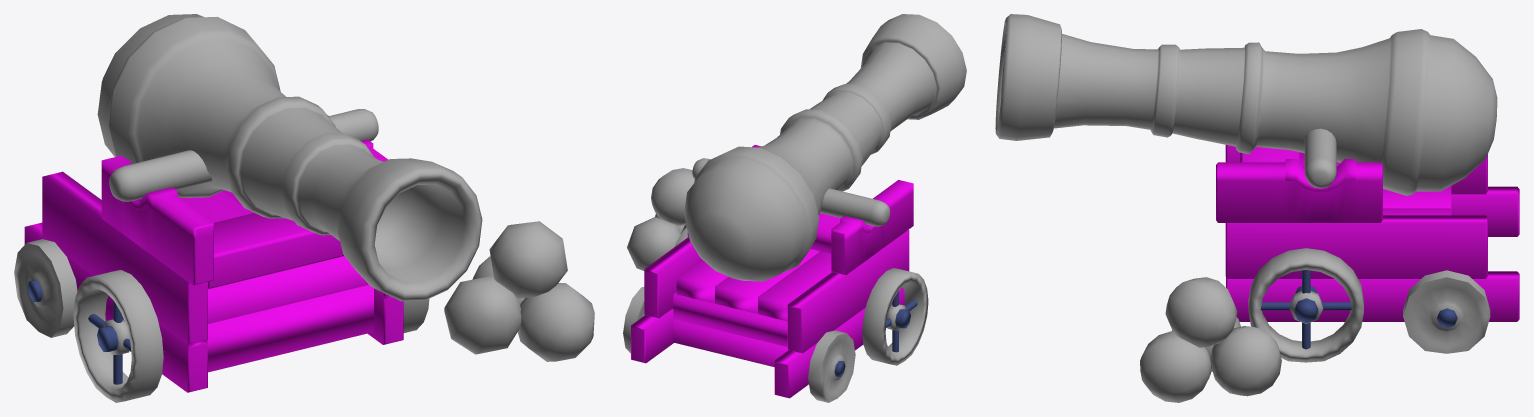
File: Full_Cannon_LP.fbx
3 renders of one model, left to right at view 1: azimuth 30°, elevation 25°; view 2: azimuth 150°, elevation 25°; view 3: azimuth 270°, elevation 25°, orthographic. The views are drawn at different scales.
Visible parts, largest first — view 1: Cannon, sostegno1, cannonballs, Wheels, Barra, Raggi_ruote; view 2: Cannon, sostegno1, Wheels, cannonballs, Barra, Raggi_ruote; view 3: Cannon, sostegno1, cannonballs, Wheels, Raggi_ruote, Barra.
Part boxes in pixels (left/top/right/bottom): Cannon: left=97, top=14, right=482, bottom=301; sostegno1: left=24, top=115, right=403, bottom=392; cannonballs: left=444, top=221, right=594, bottom=361; Wheels: left=14, top=239, right=429, bottom=402; Barra: left=109, top=109, right=378, bottom=201; Raggi_ruote: left=27, top=280, right=131, bottom=384; Cannon: left=684, top=14, right=966, bottom=281; sostegno1: left=631, top=145, right=913, bottom=398; Wheels: left=623, top=227, right=928, bottom=402; cannonballs: left=627, top=168, right=694, bottom=270; Barra: left=692, top=158, right=890, bottom=226; Raggi_ruote: left=834, top=291, right=917, bottom=376; Cannon: left=995, top=14, right=1497, bottom=195; sostegno1: left=1216, top=145, right=1519, bottom=321; cannonballs: left=1140, top=277, right=1281, bottom=402; Wheels: left=1248, top=248, right=1490, bottom=362; Raggi_ruote: left=1260, top=270, right=1457, bottom=349; Barra: left=1304, top=128, right=1336, bottom=188.
Size of the model in its own units: 4.91 by 3.59 by 6.1.
